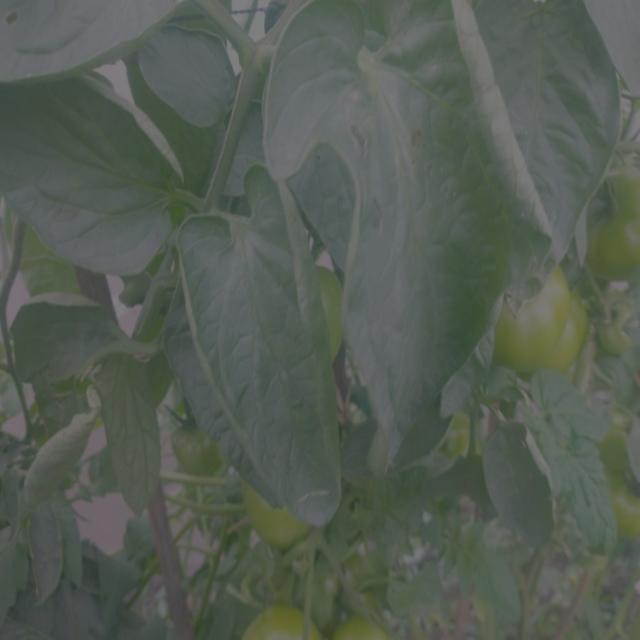tomato: (491, 261, 565, 381), (590, 161, 640, 280), (243, 483, 312, 551), (170, 407, 221, 480), (240, 599, 322, 640), (315, 266, 347, 359), (562, 296, 592, 378), (602, 300, 640, 358), (338, 614, 385, 640), (616, 490, 640, 539)
